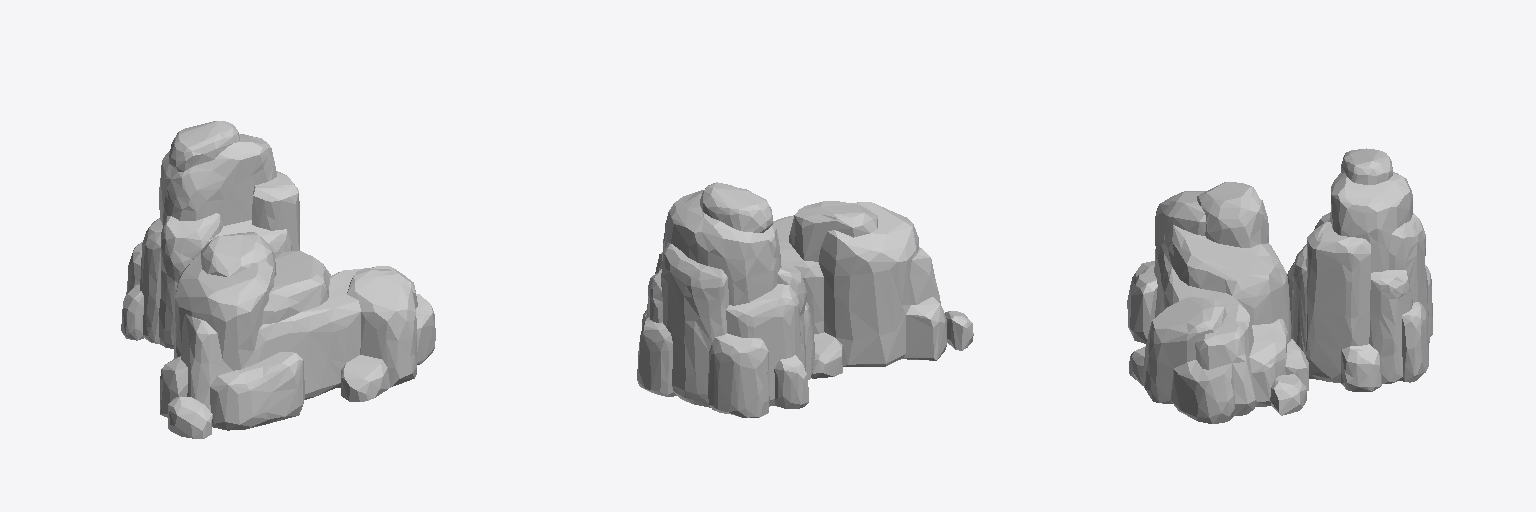
File: cliffs.obj
3 views of the same model, side by side, from view 1: azimuth 30°, elevation 25°; view 2: azimuth 150°, elevation 25°; view 3: azimuth 270°, elevation 25° (orthographic).
Visible parts, largest first — view 1: cliff2_Mesh, cliff3_Mesh.001; view 2: cliff3_Mesh.001, cliff2_Mesh; view 3: cliff2_Mesh, cliff3_Mesh.001.
Boxes of the visible parts, x1,y1,x2,y2 form: cliff2_Mesh: [160, 232, 435, 438]; cliff3_Mesh.001: [121, 121, 299, 348]; cliff3_Mesh.001: [637, 182, 814, 417]; cliff2_Mesh: [642, 201, 973, 378]; cliff2_Mesh: [1127, 182, 1308, 423]; cliff3_Mesh.001: [1287, 148, 1432, 391].
Bounding box in the file's own units: 23.97 × 15.85 × 22.11.